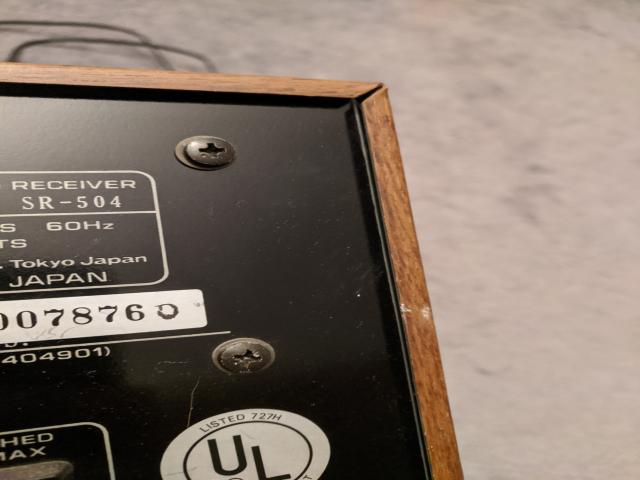CRS: (217, 340, 274, 373), (183, 137, 236, 167)
